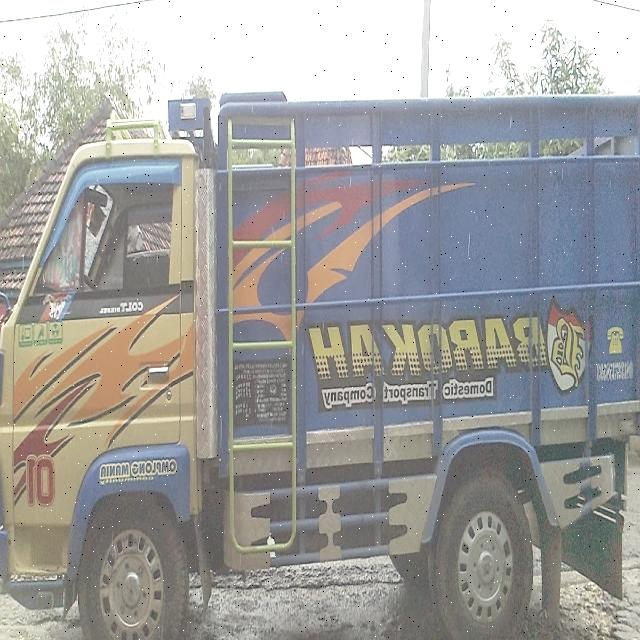truck: (0, 80, 639, 639)
